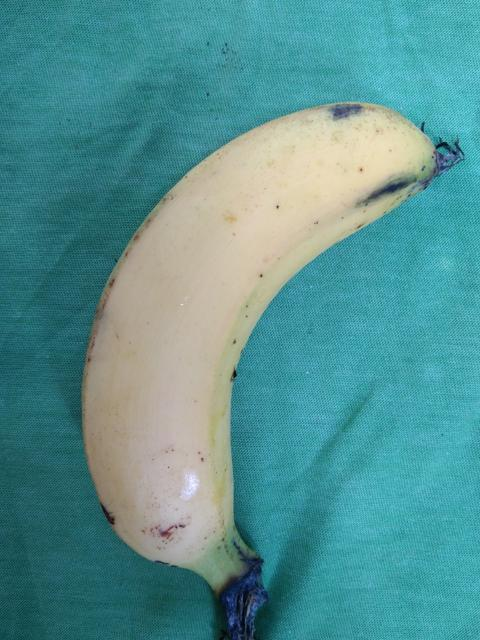freshripe: (68, 89, 447, 583)
